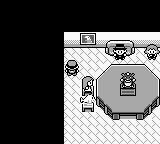leer: (120, 73, 136, 89), (80, 33, 96, 45)
main: (65, 60, 79, 76)
no-caminable: (1, 1, 159, 143), (97, 32, 159, 47), (64, 32, 80, 47)
npc: (112, 43, 129, 60), (144, 45, 159, 59), (82, 76, 94, 92), (80, 95, 96, 104)
